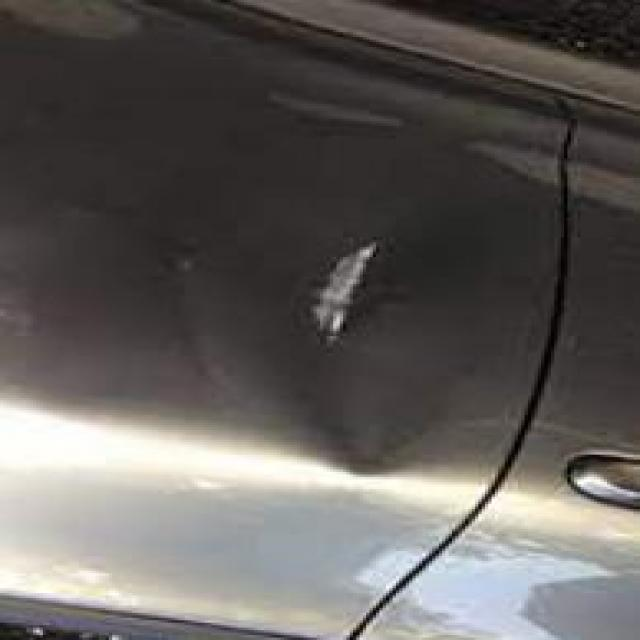dent: (268, 214, 464, 481)
